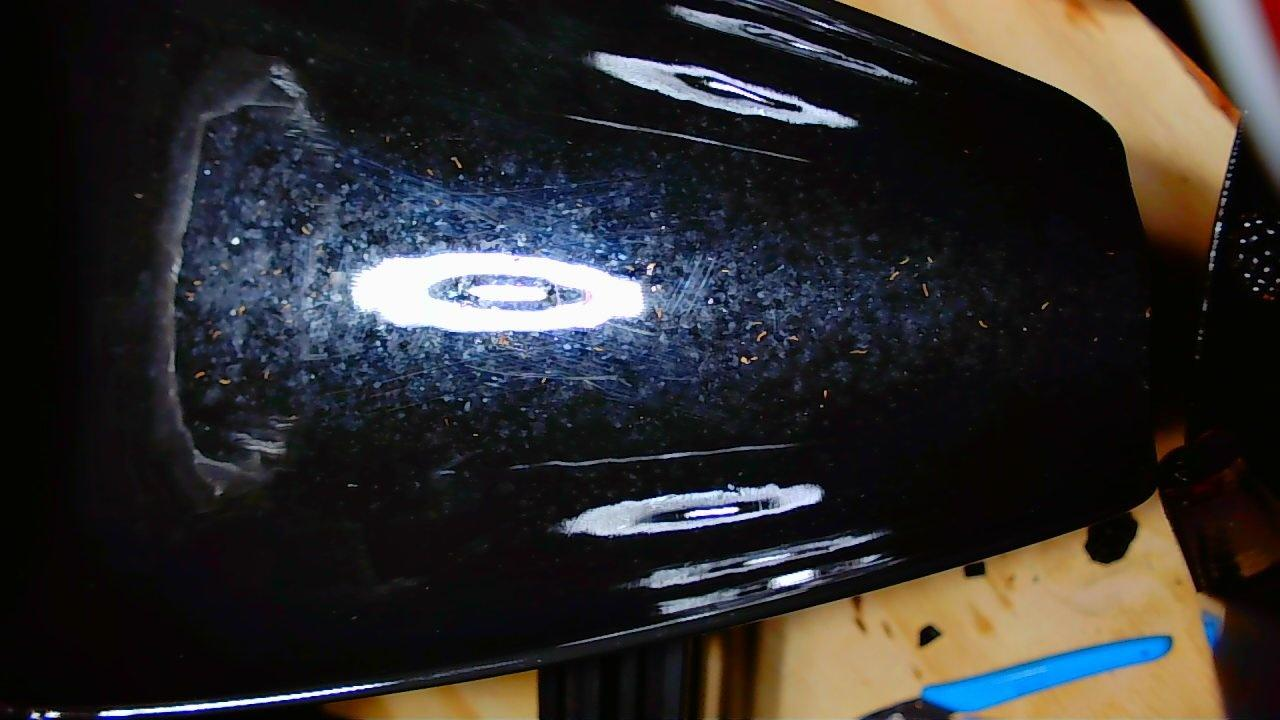berry: (1228, 213, 1279, 301)
